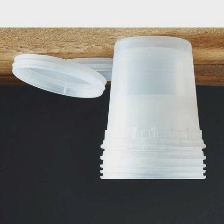plastic_box: (92, 29, 211, 186), (6, 48, 123, 103)
